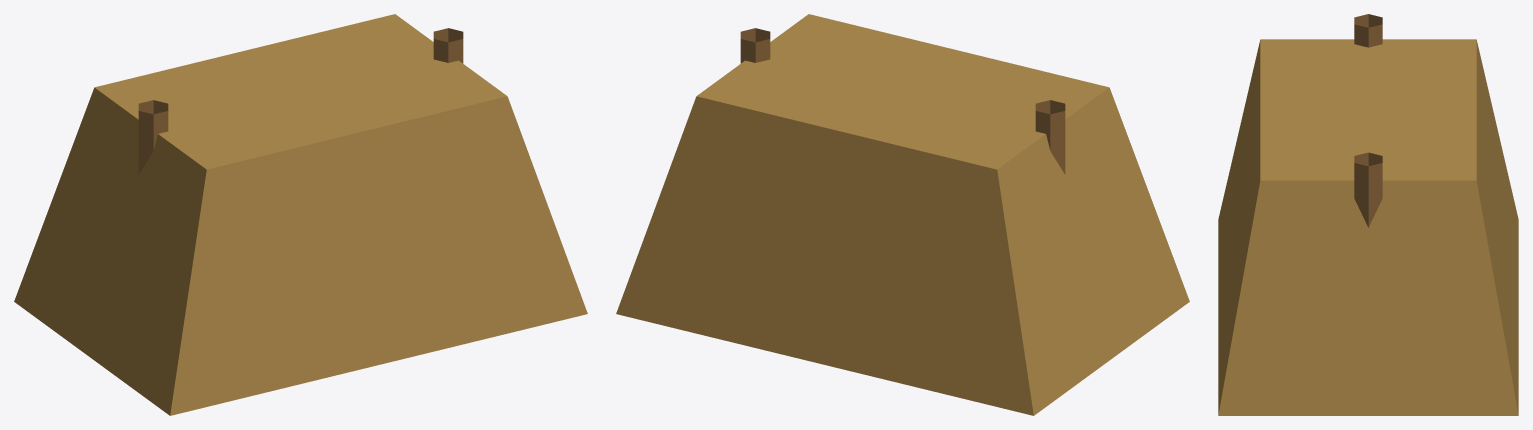
Rendered from basket.obj.
3 views of the same model, side by side, from view 1: azimuth 30°, elevation 25°; view 2: azimuth 150°, elevation 25°; view 3: azimuth 270°, elevation 25° (orthographic). The views are drawn at different scales.
Size of the model in its own units: 0.85 by 0.46 by 0.55.
